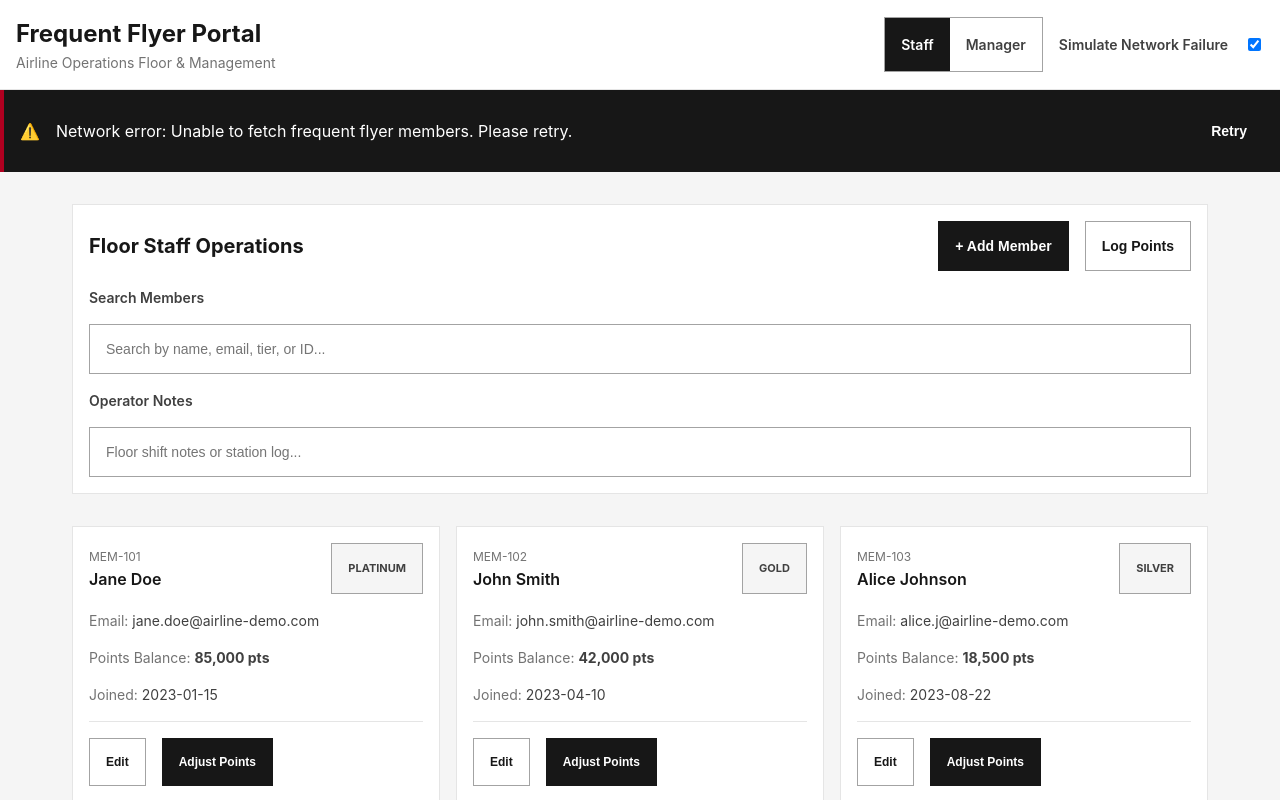
Test: Criterion 4 & 5 & 6: Unhappy Path › Criterion 5: Async Loading Indicators and Error Retry › displays a clear error message with a retry button when an async operation fails, and retrying re-attempts
The image size is (1280, 800).
Expected: the message "⚠️ Network error: Unable to fetch frequent flyer members. Please retry. Retry" is shown, x1=0 y1=90 x2=1279 y2=172
Expected: the message reads "⚠️ Network error: Unable to fetch frequent flyer members. Please retry. Retry", x1=56 y1=121 x2=572 y2=141
Click the button "Retry": (1229, 131) x1=1194 y1=106 x2=1264 y2=156
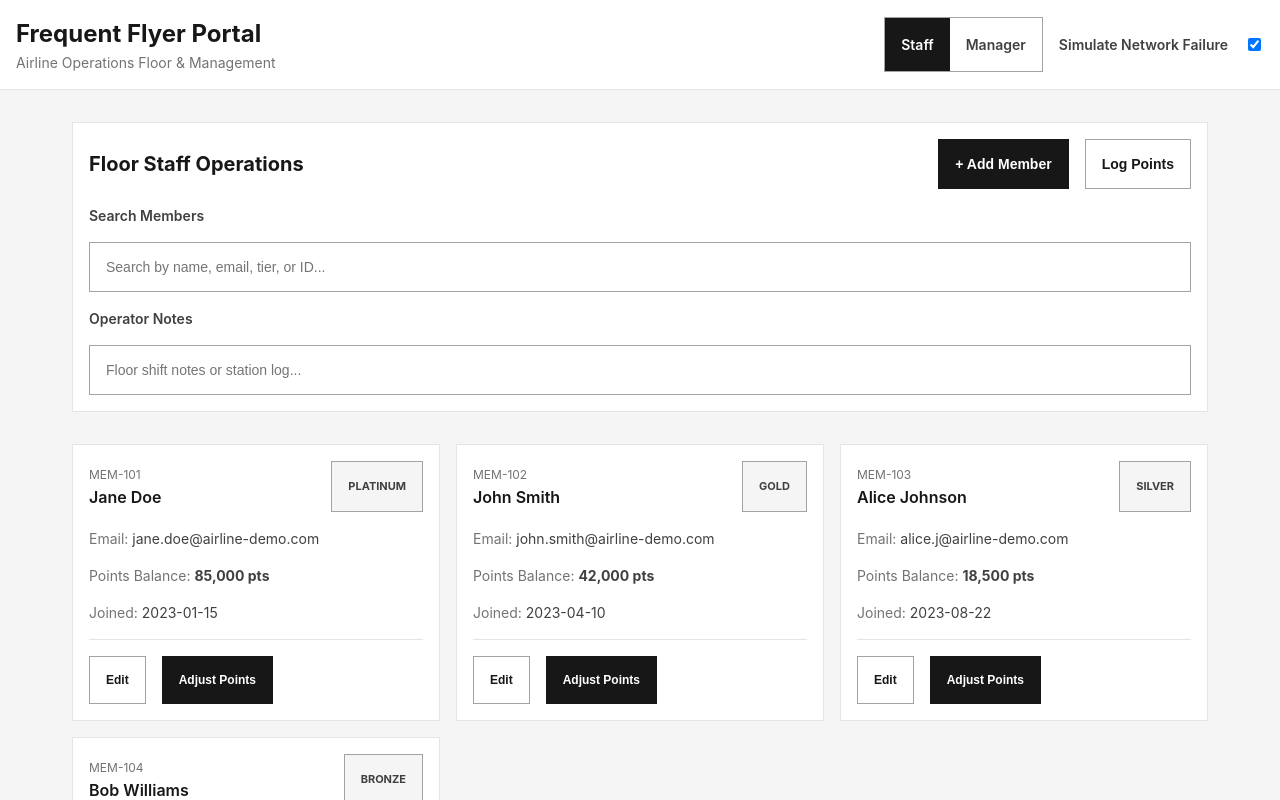
Result: the message "⚠️ Network error: Unable to fetch frequent flyer members. Please retry. Retry" is gone
